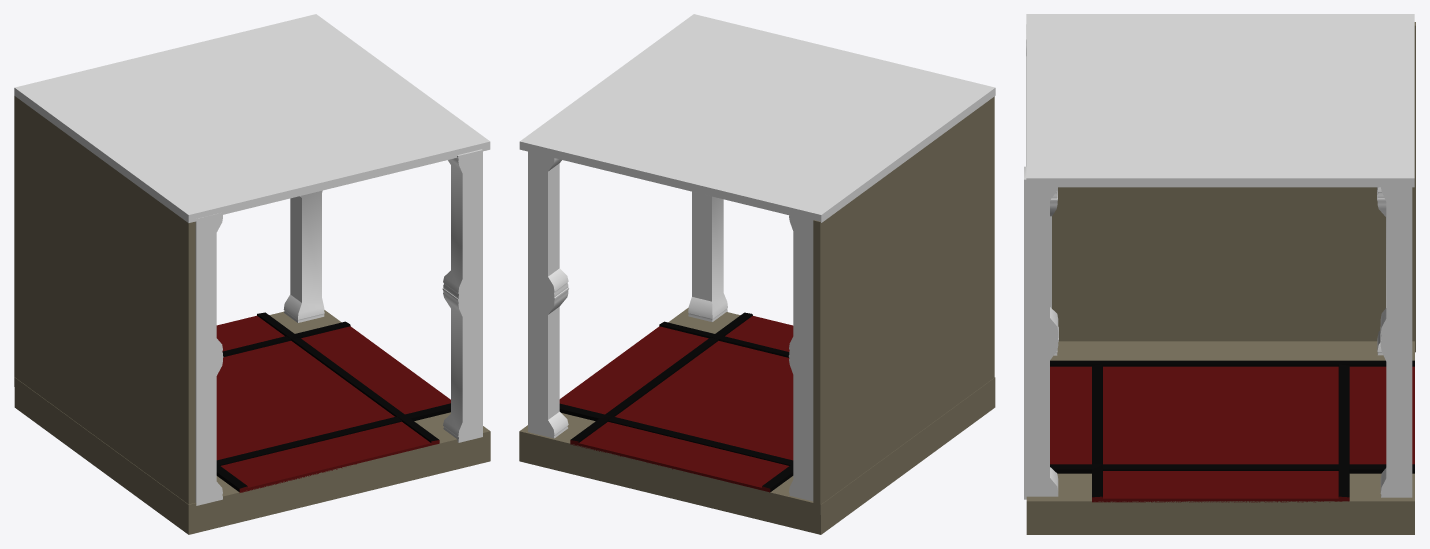
File: T_junction.fbx
3 renders of one model, left to right at view 1: azimuth 30°, elevation 25°; view 2: azimuth 150°, elevation 25°; view 3: azimuth 270°, elevation 25°, orthographic. The views are drawn at different scales.
Parts seen in each view (by area): view 1: 立方体.003, Wall_North, Carpet_EastWest, 立方体.036, 立方体.022, 立方体.004, 立方体.006; view 2: 立方体.003, Wall_North, Carpet_EastWest, 立方体.036, 立方体.006, 立方体.008, 立方体.022; view 3: 立方体.003, Wall_North, Carpet_EastWest, 立方体.036, 立方体.006, 立方体.022, 立方体.004.
Part boxes in pixels (bbox=[...]): 立方体.003: bbox=[14, 14, 490, 222]; Wall_North: bbox=[14, 96, 195, 504]; Carpet_EastWest: bbox=[216, 312, 450, 492]; 立方体.036: bbox=[14, 310, 490, 534]; 立方体.022: bbox=[442, 149, 482, 442]; 立方体.004: bbox=[195, 212, 223, 505]; 立方体.006: bbox=[283, 190, 324, 322]; 立方体.003: bbox=[519, 14, 995, 222]; Wall_North: bbox=[813, 96, 994, 514]; Carpet_EastWest: bbox=[559, 312, 793, 492]; 立方体.036: bbox=[519, 307, 995, 534]; 立方体.006: bbox=[528, 151, 568, 438]; 立方体.008: bbox=[788, 215, 813, 501]; 立方体.022: bbox=[688, 191, 727, 321]; 立方体.003: bbox=[1026, 14, 1414, 187]; Wall_North: bbox=[1052, 22, 1415, 352]; Carpet_EastWest: bbox=[1050, 360, 1414, 502]; 立方体.036: bbox=[1026, 341, 1414, 534]; 立方体.006: bbox=[1380, 187, 1412, 497]; 立方体.022: bbox=[1024, 166, 1058, 499]; 立方体.004: bbox=[1026, 24, 1057, 355].
Bounding box in the file's own units: 2001 × 2027 × 2018.
